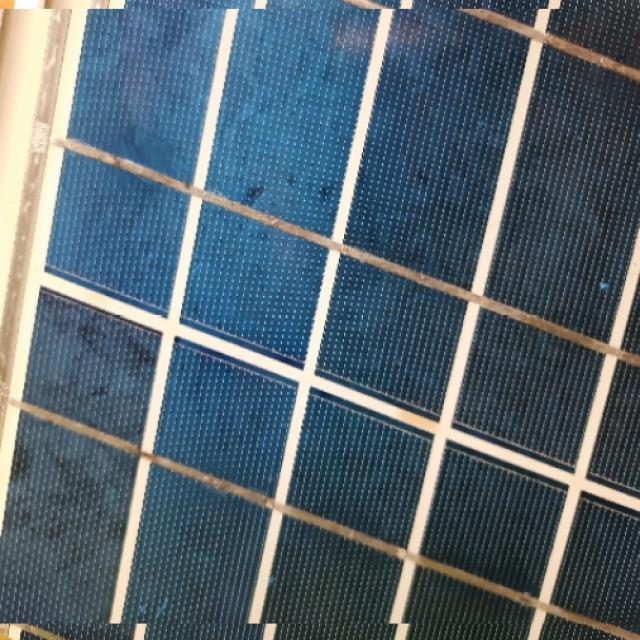Clean: (0, 8, 640, 624)
